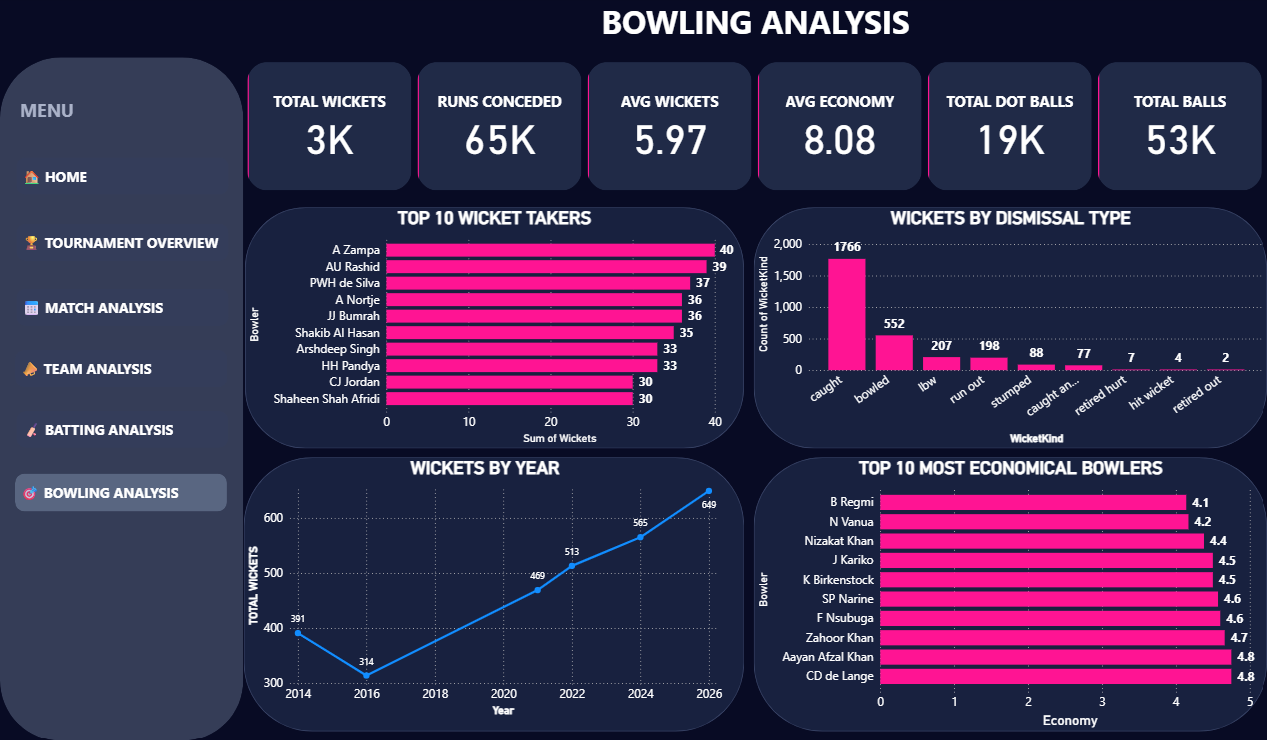

Layout of this report page (visuals, bound fields, positions):
{"tool":"powerbi","page":{"name":"BOWLING ANALYSIS","canvas":[1700,1000],"ordinal":5},"visuals":[{"type":"shape","box":[328.9,282.7,668.9,323.4],"z":0},{"type":"shape","box":[1010.8,282.7,689.2,323.4],"z":1000},{"type":"shape","box":[327.1,619,670.8,367.7],"z":2000},{"type":"shape","box":[1010.8,619,689.2,367.7],"z":3000},{"type":"shape","box":[0,82.9,326.1,917.1],"z":4000},{"type":"textbox","box":[21.8,132.4,196,43.6],"z":5000},{"type":"actionButton","box":[21.8,216.2,284.9,50.3],"z":6000},{"type":"actionButton","box":[21.8,305,284.9,50.3],"z":7000},{"type":"actionButton","box":[20.1,474.2,284.9,50.3],"z":8000},{"type":"actionButton","box":[21.8,392.1,284.9,50.3],"z":9000},{"type":"actionButton","box":[21.9,555.9,284.3,49.2],"z":10000},{"type":"actionButton","box":[20,639.7,284.3,51],"z":11000},{"type":"textbox","box":[326.7,0,1372.3,83.8],"z":12000},{"type":"cardVisual","fields":{"Data":["Sum(new_bowling_summary.TotalWickets)","Sum(new_bowling_summary.RunsConceded)","Avg(new_bowling_summary.TotalWickets)","Avg(new_bowling_summary.Economy)","new_bowling_summary.Total Dot Balls","Sum(new_bowling_summary.Balls)"]},"box":[326.7,83.8,1372.3,182.6],"z":13000},{"type":"clusteredBarChart","title":"TOP 10 WICKET TAKERS","fields":{"Category":["new_bowling_summary.Bowler"],"Y":["Sum(new_bowling_summary.TotalWickets)"]},"box":[328.9,282.7,668.9,323.4],"z":14000},{"type":"clusteredBarChart","title":"TOP 10 MOST ECONOMICAL BOWLERS","fields":{"Category":["new_bowling_summary.Bowler"],"Y":["Avg(new_bowling_summary.Economy)"]},"box":[1010.8,619,689.2,367.7],"z":15000},{"type":"columnChart","title":"WICKETS BY DISMISSAL TYPE","fields":{"Category":["full_deliveries.WicketKind"],"Y":["CountNonNull(full_deliveries.WicketKind)"]},"box":[1010.8,282.7,689.2,323.4],"z":16000},{"type":"lineChart","title":"WICKETS BY YEAR","fields":{"Category":["matches.Year"],"Y":["Sum(full_deliveries.Wicket)"]},"box":[327.1,619,646.7,352.9],"z":17000}]}

Visuals, with their boxes in screenshot pixels (x1, y1, x2, y2), scaled from the page's 1700x1000 canvas onto the 1267x740 screenshot:
shape: locate(245, 209, 744, 449)
shape: locate(753, 209, 1266, 449)
shape: locate(244, 458, 744, 730)
shape: locate(753, 458, 1266, 730)
shape: locate(0, 61, 243, 739)
textbox: locate(16, 98, 162, 130)
actionButton: locate(16, 160, 229, 197)
actionButton: locate(16, 226, 229, 263)
actionButton: locate(15, 351, 227, 388)
actionButton: locate(16, 290, 229, 327)
actionButton: locate(16, 411, 228, 448)
actionButton: locate(15, 473, 227, 511)
textbox: locate(243, 0, 1266, 62)
cardVisual - Sum(new_bowling_summary.TotalWickets) x Sum(new_bowling_summary.RunsConceded): locate(243, 62, 1266, 197)
"TOP 10 WICKET TAKERS" clusteredBarChart: locate(245, 209, 744, 449)
"TOP 10 MOST ECONOMICAL BOWLERS" clusteredBarChart: locate(753, 458, 1266, 730)
"WICKETS BY DISMISSAL TYPE" columnChart: locate(753, 209, 1266, 449)
"WICKETS BY YEAR" lineChart: locate(244, 458, 726, 719)
